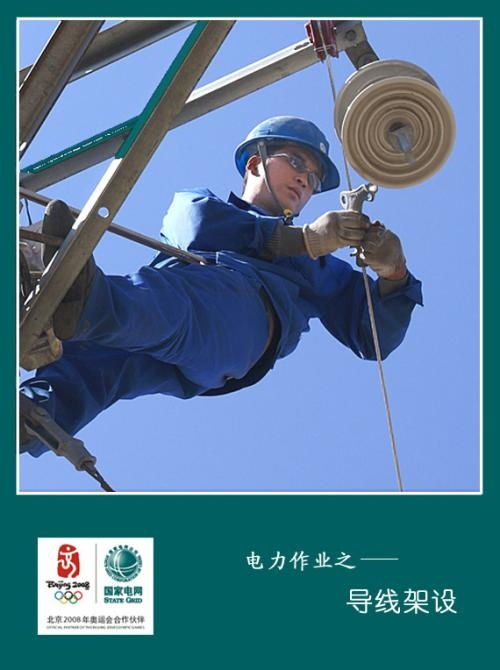blue: (227, 111, 339, 215)
